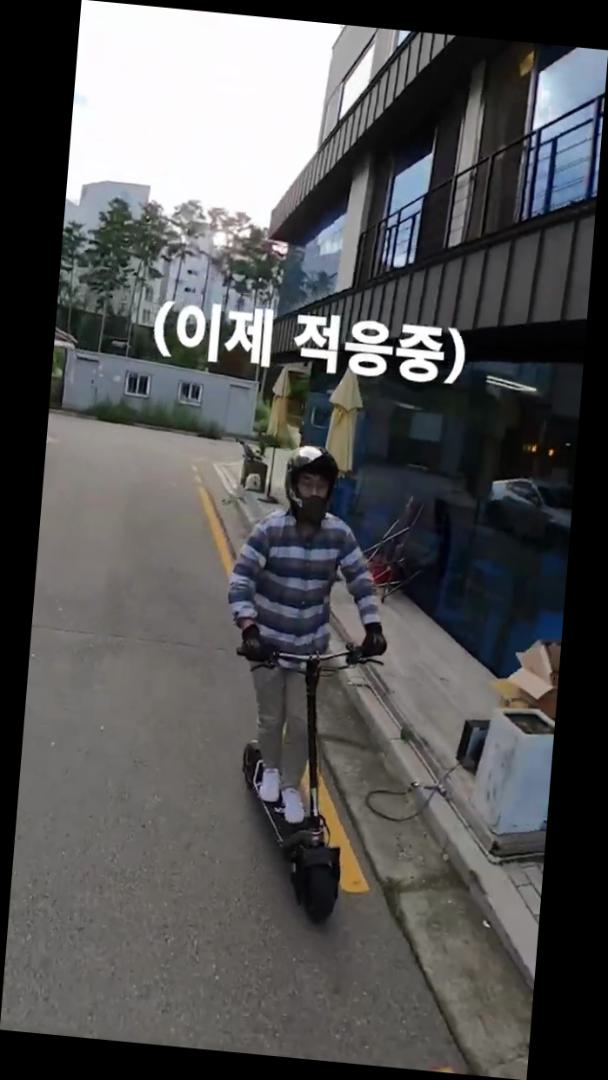helmet: (200, 436, 403, 936)
